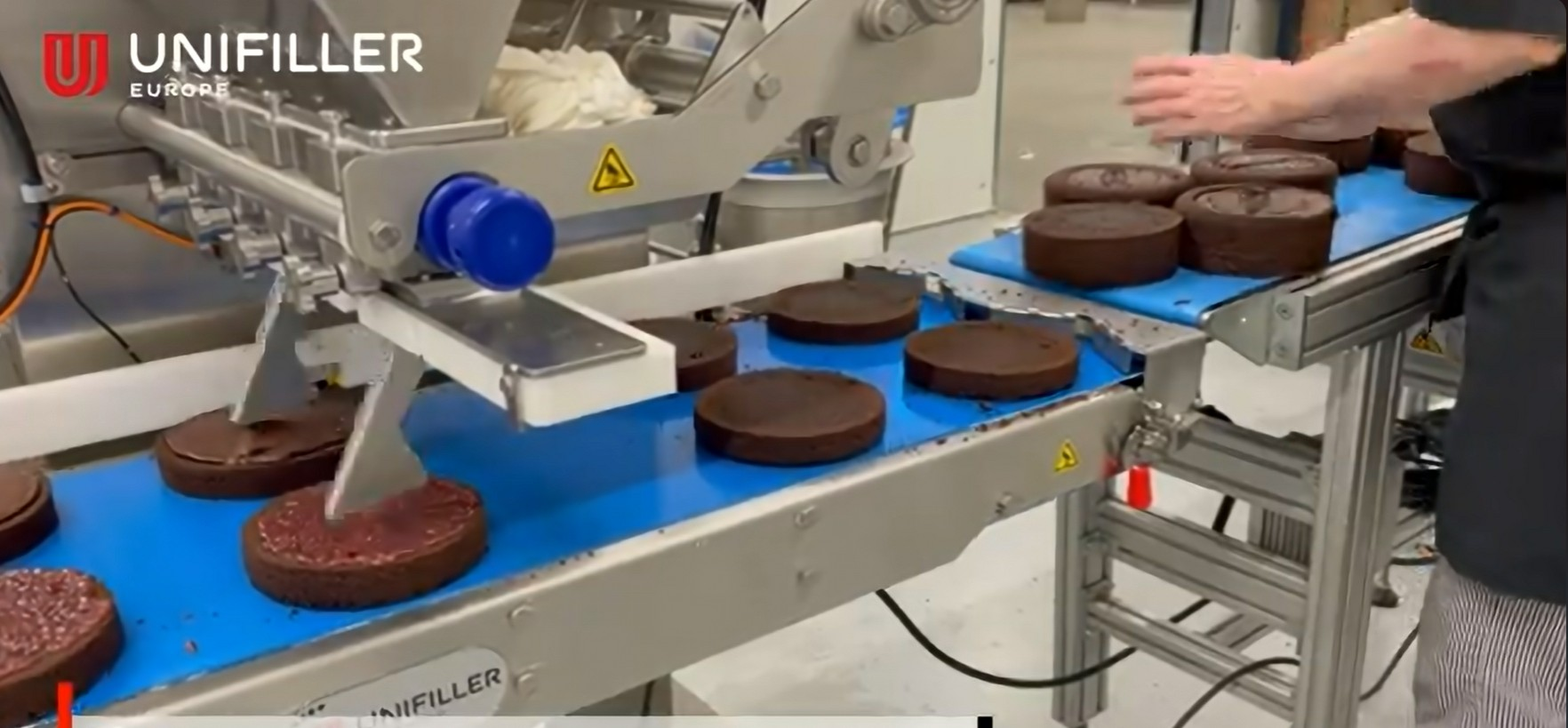Chocolate Cake: (694, 369, 885, 464), (1017, 204, 1184, 285), (906, 324, 1078, 395), (1180, 194, 1338, 268), (768, 276, 921, 343), (618, 316, 738, 393), (1041, 165, 1195, 210), (1400, 135, 1450, 196), (789, 368, 792, 374)
Chocolate Coated: (242, 476, 495, 607), (146, 391, 371, 491), (0, 562, 118, 674), (0, 457, 60, 562), (1194, 151, 1337, 186)
